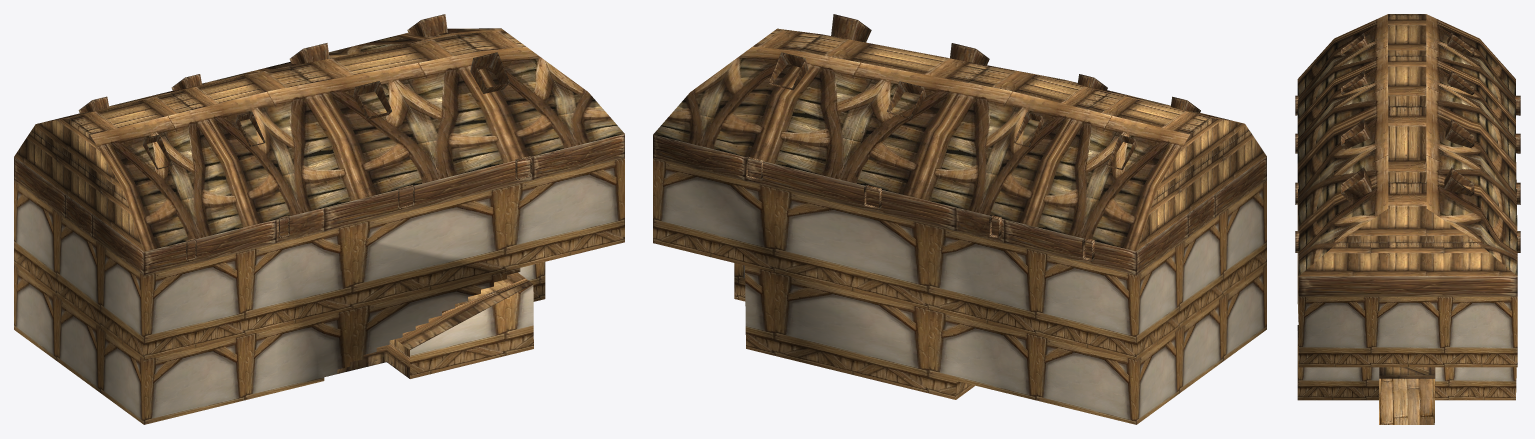
The model's file is stormwind_262.fbx.
3 renders of one model, left to right at view 1: azimuth 30°, elevation 25°; view 2: azimuth 150°, elevation 25°; view 3: azimuth 270°, elevation 25°, orthographic. The views are drawn at different scales.
Visible parts, largest first — view 1: stormwind_262_48, stormwind_262_49, stormwind_262_55, stormwind_262_53; view 2: stormwind_262_48, stormwind_262_49, stormwind_262_53, stormwind_262_55; view 3: stormwind_262_49, stormwind_262_48, stormwind_262_55, stormwind_262_53, stormwind_262_51, stormwind_262_56.
Part boxes in pixels (left/top/right/bottom): stormwind_262_48: left=14, top=158, right=624, bottom=424; stormwind_262_49: left=37, top=28, right=624, bottom=251; stormwind_262_55: left=14, top=30, right=532, bottom=378; stormwind_262_53: left=14, top=14, right=624, bottom=275; stormwind_262_48: left=653, top=158, right=1266, bottom=424; stormwind_262_49: left=653, top=28, right=1242, bottom=251; stormwind_262_53: left=653, top=14, right=1266, bottom=275; stormwind_262_55: left=751, top=30, right=1266, bottom=250; stormwind_262_49: left=1297, top=14, right=1517, bottom=275; stormwind_262_48: left=1297, top=205, right=1517, bottom=422; stormwind_262_55: left=1297, top=14, right=1516, bottom=345; stormwind_262_53: left=1295, top=32, right=1520, bottom=303; stormwind_262_51: left=1379, top=378, right=1434, bottom=424; stormwind_262_56: left=1379, top=367, right=1435, bottom=378.
Size of the model in its own units: 34.53 by 18.5 by 16.64.
